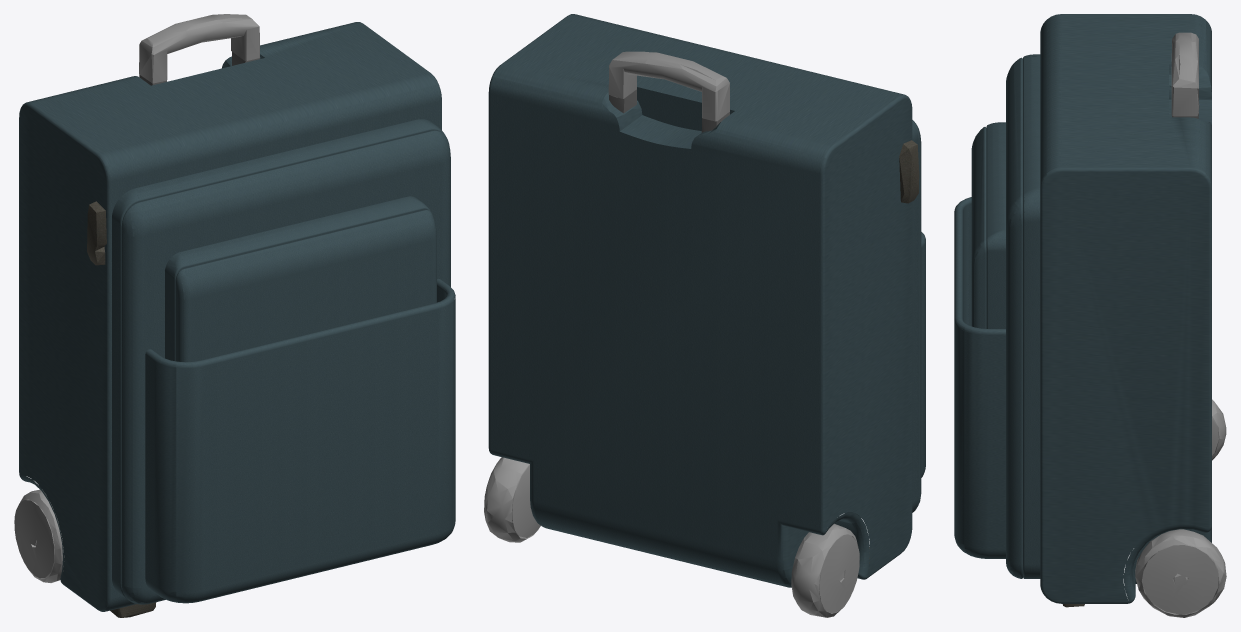
Rendered from Maleta.glb.
3 views of the same model, side by side, from view 1: azimuth 30°, elevation 25°; view 2: azimuth 150°, elevation 25°; view 3: azimuth 270°, elevation 25° (orthographic). The views are drawn at different scales.
Parts seen in each view (by area): view 1: 9b0cdf66-b3df-4dbc-8659-0a5f24d8761b, 59258a4f-9492-4ee9-b402-8fadbb6c7653, 516ce918-77fe-4aae-9d90-f9e56e82944e, 470899d5-4182-4833-b71c-3b32399a7902, 1a982d32-f169-4932-a4f7-75eec26f15af, 42913439-81a3-4a4d-9026-00a661f665cc, 7e62f548-32fe-4c61-8758-7751ab2e5337, 9d7852ae-166c-413a-9030-0430db483b86, f14ed79f-ead0-45be-b78f-d147b6da9fb2; view 2: 59258a4f-9492-4ee9-b402-8fadbb6c7653, 9d7852ae-166c-413a-9030-0430db483b86, 7e62f548-32fe-4c61-8758-7751ab2e5337, 6ab6a8da-d9b3-45e2-b2da-5ade371bc4c9, 1a982d32-f169-4932-a4f7-75eec26f15af, 516ce918-77fe-4aae-9d90-f9e56e82944e, 9b0cdf66-b3df-4dbc-8659-0a5f24d8761b, f14ed79f-ead0-45be-b78f-d147b6da9fb2, d190f5ac-9ec0-4cd4-acc5-000f038bbb34; view 3: 59258a4f-9492-4ee9-b402-8fadbb6c7653, 9b0cdf66-b3df-4dbc-8659-0a5f24d8761b, 1a982d32-f169-4932-a4f7-75eec26f15af, 516ce918-77fe-4aae-9d90-f9e56e82944e, 6ab6a8da-d9b3-45e2-b2da-5ade371bc4c9, 42913439-81a3-4a4d-9026-00a661f665cc, 470899d5-4182-4833-b71c-3b32399a7902, 7e62f548-32fe-4c61-8758-7751ab2e5337, 9d7852ae-166c-413a-9030-0430db483b86.
Boxes of the visible parts, bbox=[...] form: 9b0cdf66-b3df-4dbc-8659-0a5f24d8761b: bbox=[145, 278, 455, 603]; 59258a4f-9492-4ee9-b402-8fadbb6c7653: bbox=[19, 22, 441, 611]; 516ce918-77fe-4aae-9d90-f9e56e82944e: bbox=[121, 130, 450, 604]; 470899d5-4182-4833-b71c-3b32399a7902: bbox=[175, 210, 436, 361]; 1a982d32-f169-4932-a4f7-75eec26f15af: bbox=[112, 119, 445, 599]; 42913439-81a3-4a4d-9026-00a661f665cc: bbox=[165, 196, 430, 361]; 7e62f548-32fe-4c61-8758-7751ab2e5337: bbox=[139, 14, 259, 83]; 9d7852ae-166c-413a-9030-0430db483b86: bbox=[14, 489, 64, 582]; f14ed79f-ead0-45be-b78f-d147b6da9fb2: bbox=[87, 201, 106, 265]; 59258a4f-9492-4ee9-b402-8fadbb6c7653: bbox=[488, 14, 912, 587]; 9d7852ae-166c-413a-9030-0430db483b86: bbox=[791, 523, 859, 617]; 7e62f548-32fe-4c61-8758-7751ab2e5337: bbox=[608, 51, 729, 121]; 6ab6a8da-d9b3-45e2-b2da-5ade371bc4c9: bbox=[484, 457, 540, 542]; 1a982d32-f169-4932-a4f7-75eec26f15af: bbox=[847, 122, 917, 515]; 516ce918-77fe-4aae-9d90-f9e56e82944e: bbox=[912, 120, 921, 511]; 9b0cdf66-b3df-4dbc-8659-0a5f24d8761b: bbox=[921, 232, 925, 477]; f14ed79f-ead0-45be-b78f-d147b6da9fb2: bbox=[899, 140, 919, 203]; d190f5ac-9ec0-4cd4-acc5-000f038bbb34: bbox=[609, 89, 729, 132]; 59258a4f-9492-4ee9-b402-8fadbb6c7653: bbox=[1040, 14, 1211, 603]; 9b0cdf66-b3df-4dbc-8659-0a5f24d8761b: bbox=[954, 197, 1005, 558]; 1a982d32-f169-4932-a4f7-75eec26f15af: bbox=[1023, 54, 1040, 578]; 516ce918-77fe-4aae-9d90-f9e56e82944e: bbox=[1006, 57, 1022, 578]; 6ab6a8da-d9b3-45e2-b2da-5ade371bc4c9: bbox=[1135, 529, 1226, 617]; 42913439-81a3-4a4d-9026-00a661f665cc: bbox=[986, 122, 1005, 328]; 470899d5-4182-4833-b71c-3b32399a7902: bbox=[971, 127, 986, 328]; 7e62f548-32fe-4c61-8758-7751ab2e5337: bbox=[1171, 32, 1199, 116]; 9d7852ae-166c-413a-9030-0430db483b86: bbox=[1212, 399, 1226, 460].
Size of the model in its own units: 0.4439 by 0.6364 by 0.3169.
Materials: 5 (2 with a texture image).
